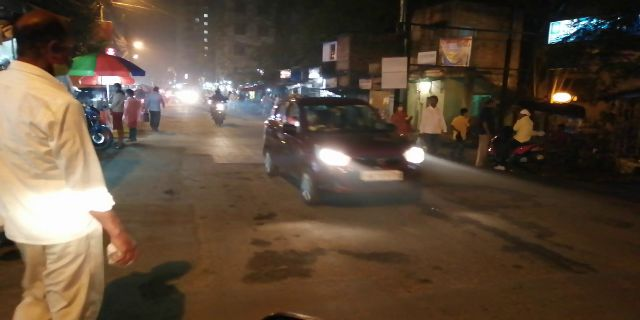Car: (263, 93, 428, 201)
